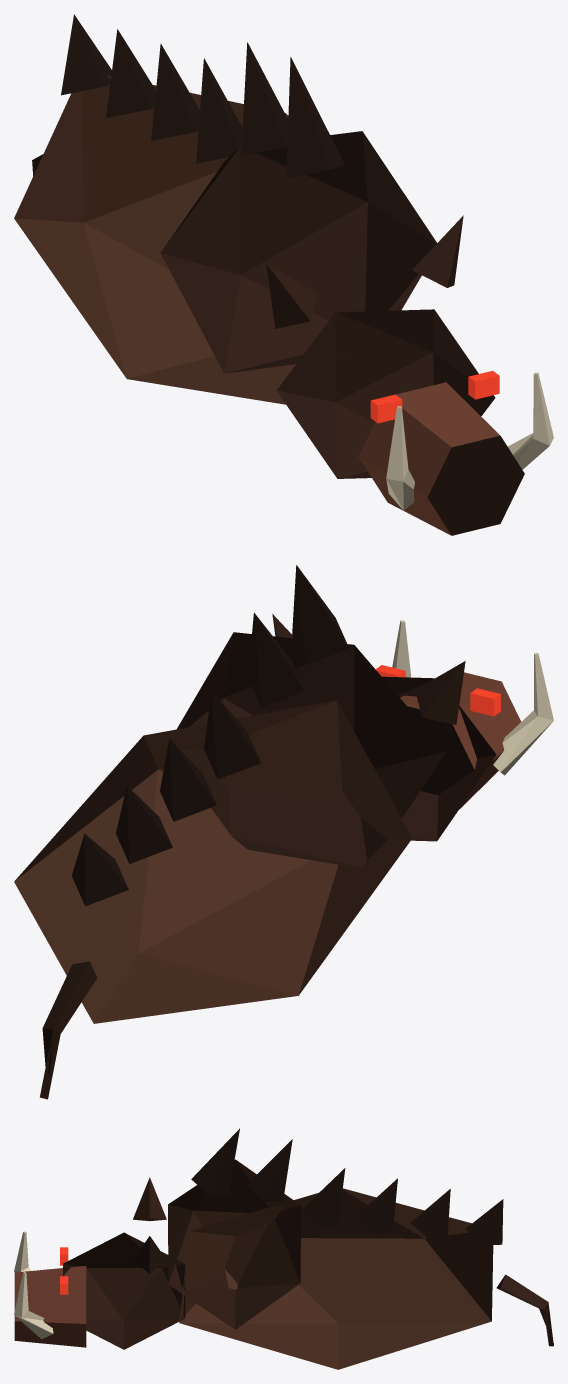
File: dk_mob_boar.glb
The picture shows the model from 3 angles, top to bottom: view 1: azimuth 30°, elevation 25°; view 2: azimuth 150°, elevation 25°; view 3: azimuth 270°, elevation 25°; orthographic projection. The views are drawn at different scales.
Parts seen in each view (by area): view 1: dk_mob_boar; view 2: dk_mob_boar; view 3: dk_mob_boar.
Boxes of the visible parts, left/top/right/bottom form: dk_mob_boar: left=14, top=14, right=553, bottom=535; dk_mob_boar: left=14, top=565, right=553, bottom=1099; dk_mob_boar: left=14, top=1128, right=553, bottom=1369.
Bounding box in the file's own units: 1.09 × 1.42 × 3.15.
2 materials, 2 textured.
